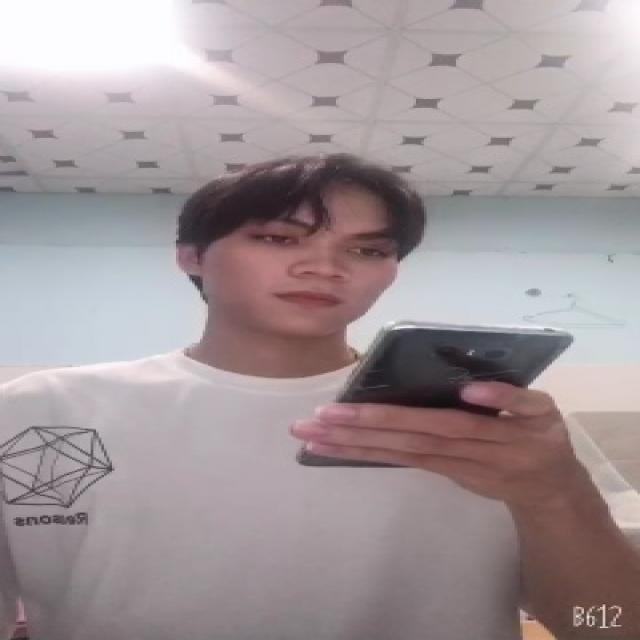Phone: (295, 321, 580, 475)
